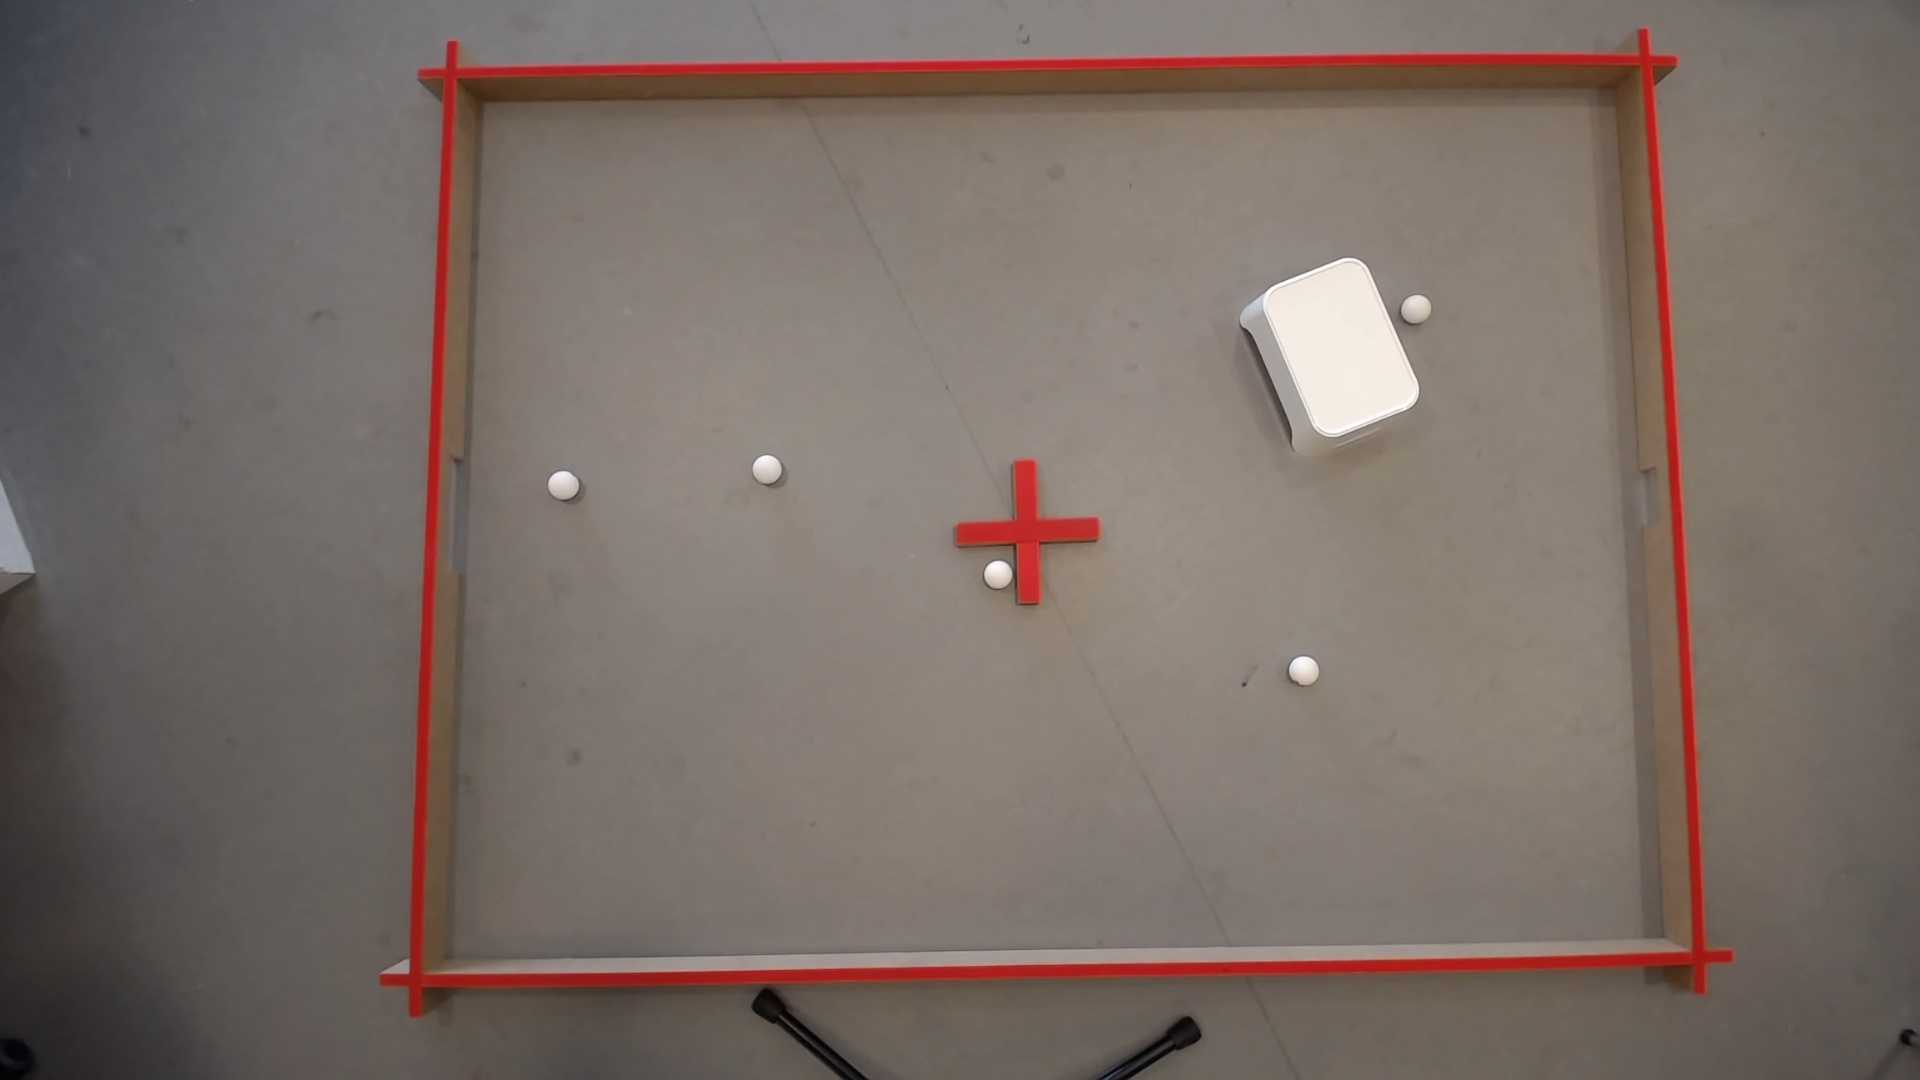balls: (1246, 247, 1425, 450), (1284, 650, 1321, 684), (980, 555, 1015, 588), (545, 465, 579, 498), (750, 450, 782, 481)
car: (1402, 289, 1432, 318)
